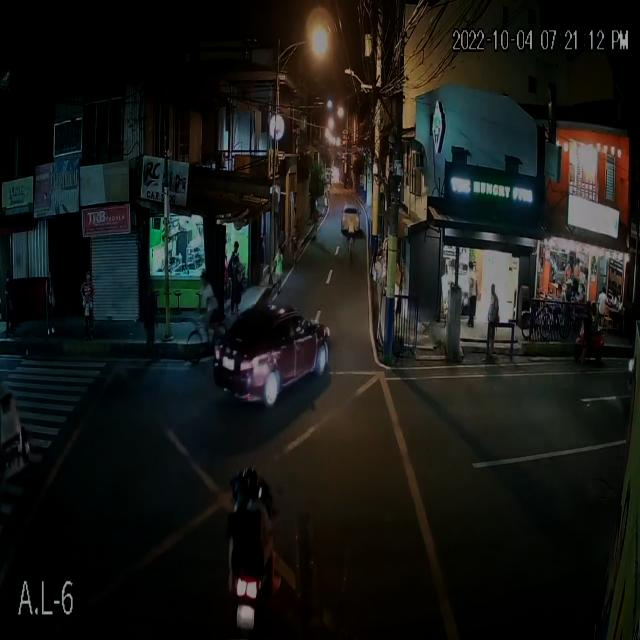Full-Faced: (242, 463, 258, 495)
Not-Wearing-Helmet: (228, 466, 255, 518)
